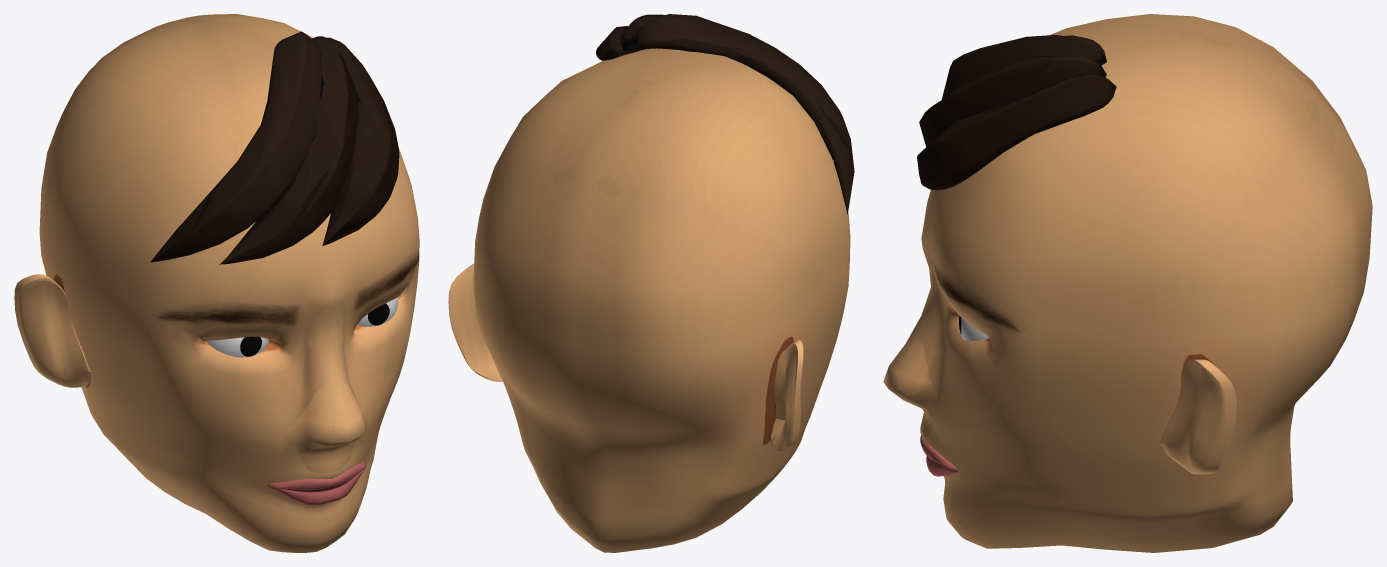
Rendered from BonnyCurveHair.glb.
3 renders of one model, left to right at view 1: azimuth 30°, elevation 25°; view 2: azimuth 150°, elevation 25°; view 3: azimuth 270°, elevation 25°, orthographic. The views are drawn at different scales.
Visible parts, largest first — view 1: Head, HairComic, Ears, Mouth, Eyes; view 2: Head, HairComic, Ears; view 3: Head, HairComic, Ears, Mouth.
Boxes of the visible parts, x1,y1,x2,y2 form: Head: (39,14,419,552); HairComic: (150,31,399,264); Ears: (14,274,90,387); Mouth: (267,461,366,504); Eyes: (206,297,397,357); Head: (473,48,850,552); HairComic: (596,14,854,214); Ears: (448,263,803,450); Head: (883,14,1372,552); HairComic: (917,35,1116,190); Ears: (1160,359,1236,474); Mouth: (920,434,957,476).
Bounding box in the file's own units: 4.07 × 5.3 × 4.48.
Materials: 7 (3 with a texture image).
